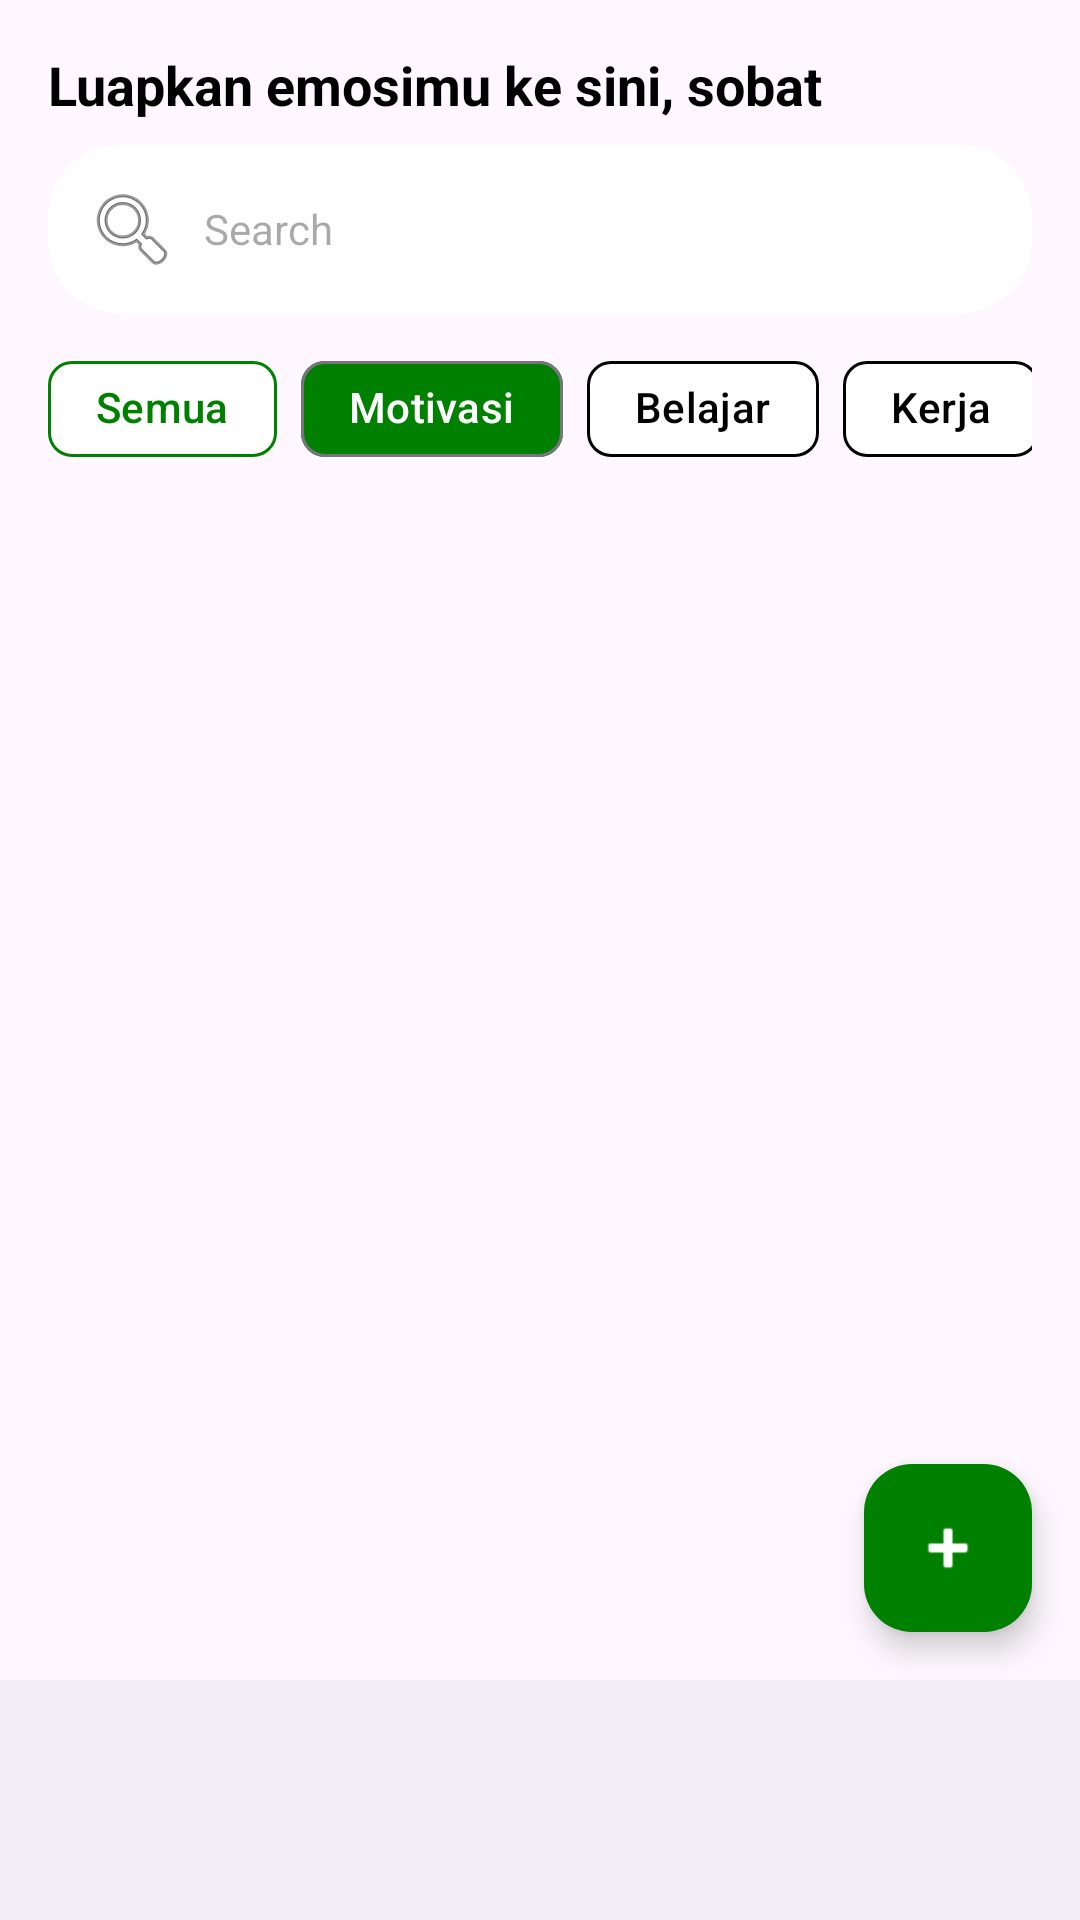

Screen size 1080px x 1920px. Icon name, then its box in pixels as (x1, y1, x2, y2):
Add note: (864, 1464, 1032, 1632)
